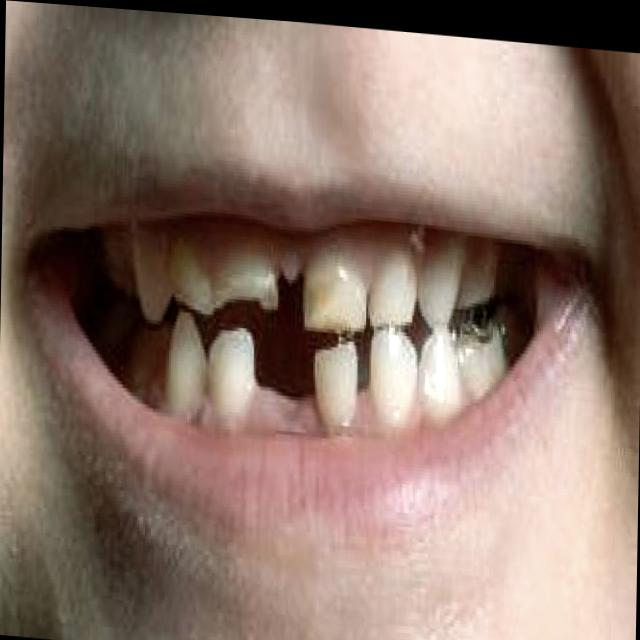hypodontia: (149, 308, 293, 427), (301, 328, 461, 432), (255, 237, 330, 325)
